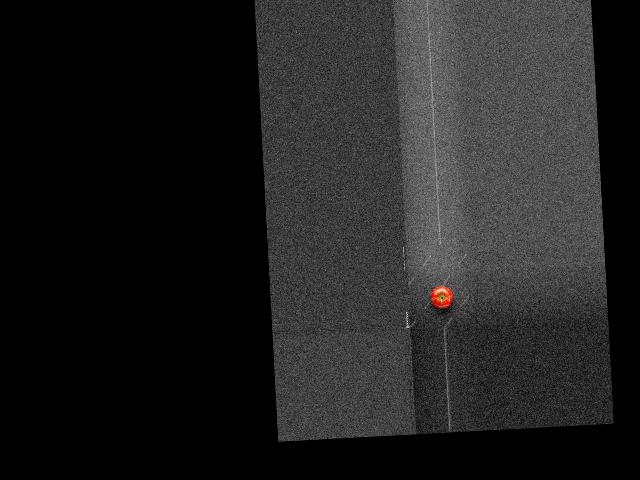tomato: (430, 284, 453, 308)
